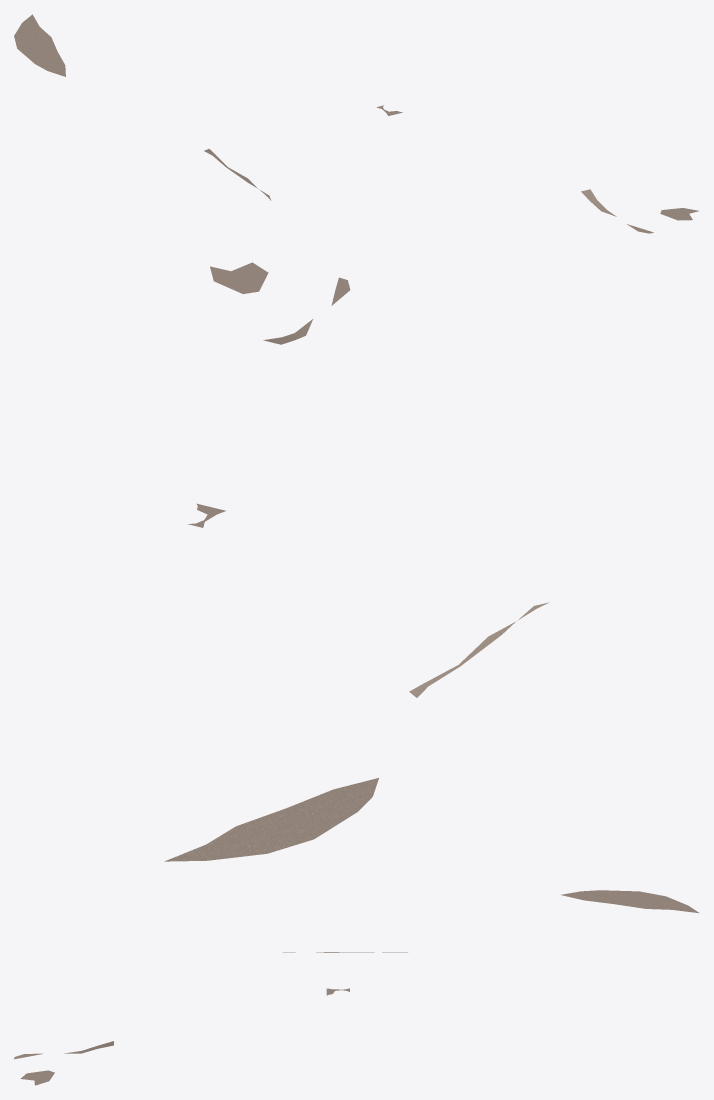
Rendered from kd_stage_1363c5_9_16.glb.
3 renders of one model, top to bottom at view 1: azimuth 30°, elevation 25°; view 2: azimuth 150°, elevation 25°; view 3: azimuth 270°, elevation 25°, orthographic. The views are drawn at different scales.
Visible parts, largest first — view 1: kd_stage_1363c5_9_16; view 2: kd_stage_1363c5_9_16; view 3: kd_stage_1363c5_9_16.
Part boxes in pixels (bbox=[...]): kd_stage_1363c5_9_16: bbox=[14, 14, 698, 233]; kd_stage_1363c5_9_16: bbox=[164, 262, 549, 861]; kd_stage_1363c5_9_16: bbox=[14, 890, 699, 1085].
Size of the model in its own units: 85.12 by 6.92 by 142.
Materials: 1 (1 with a texture image).
